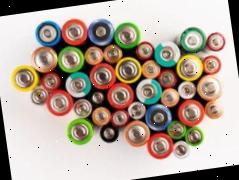electronic: (26, 14, 69, 54)
